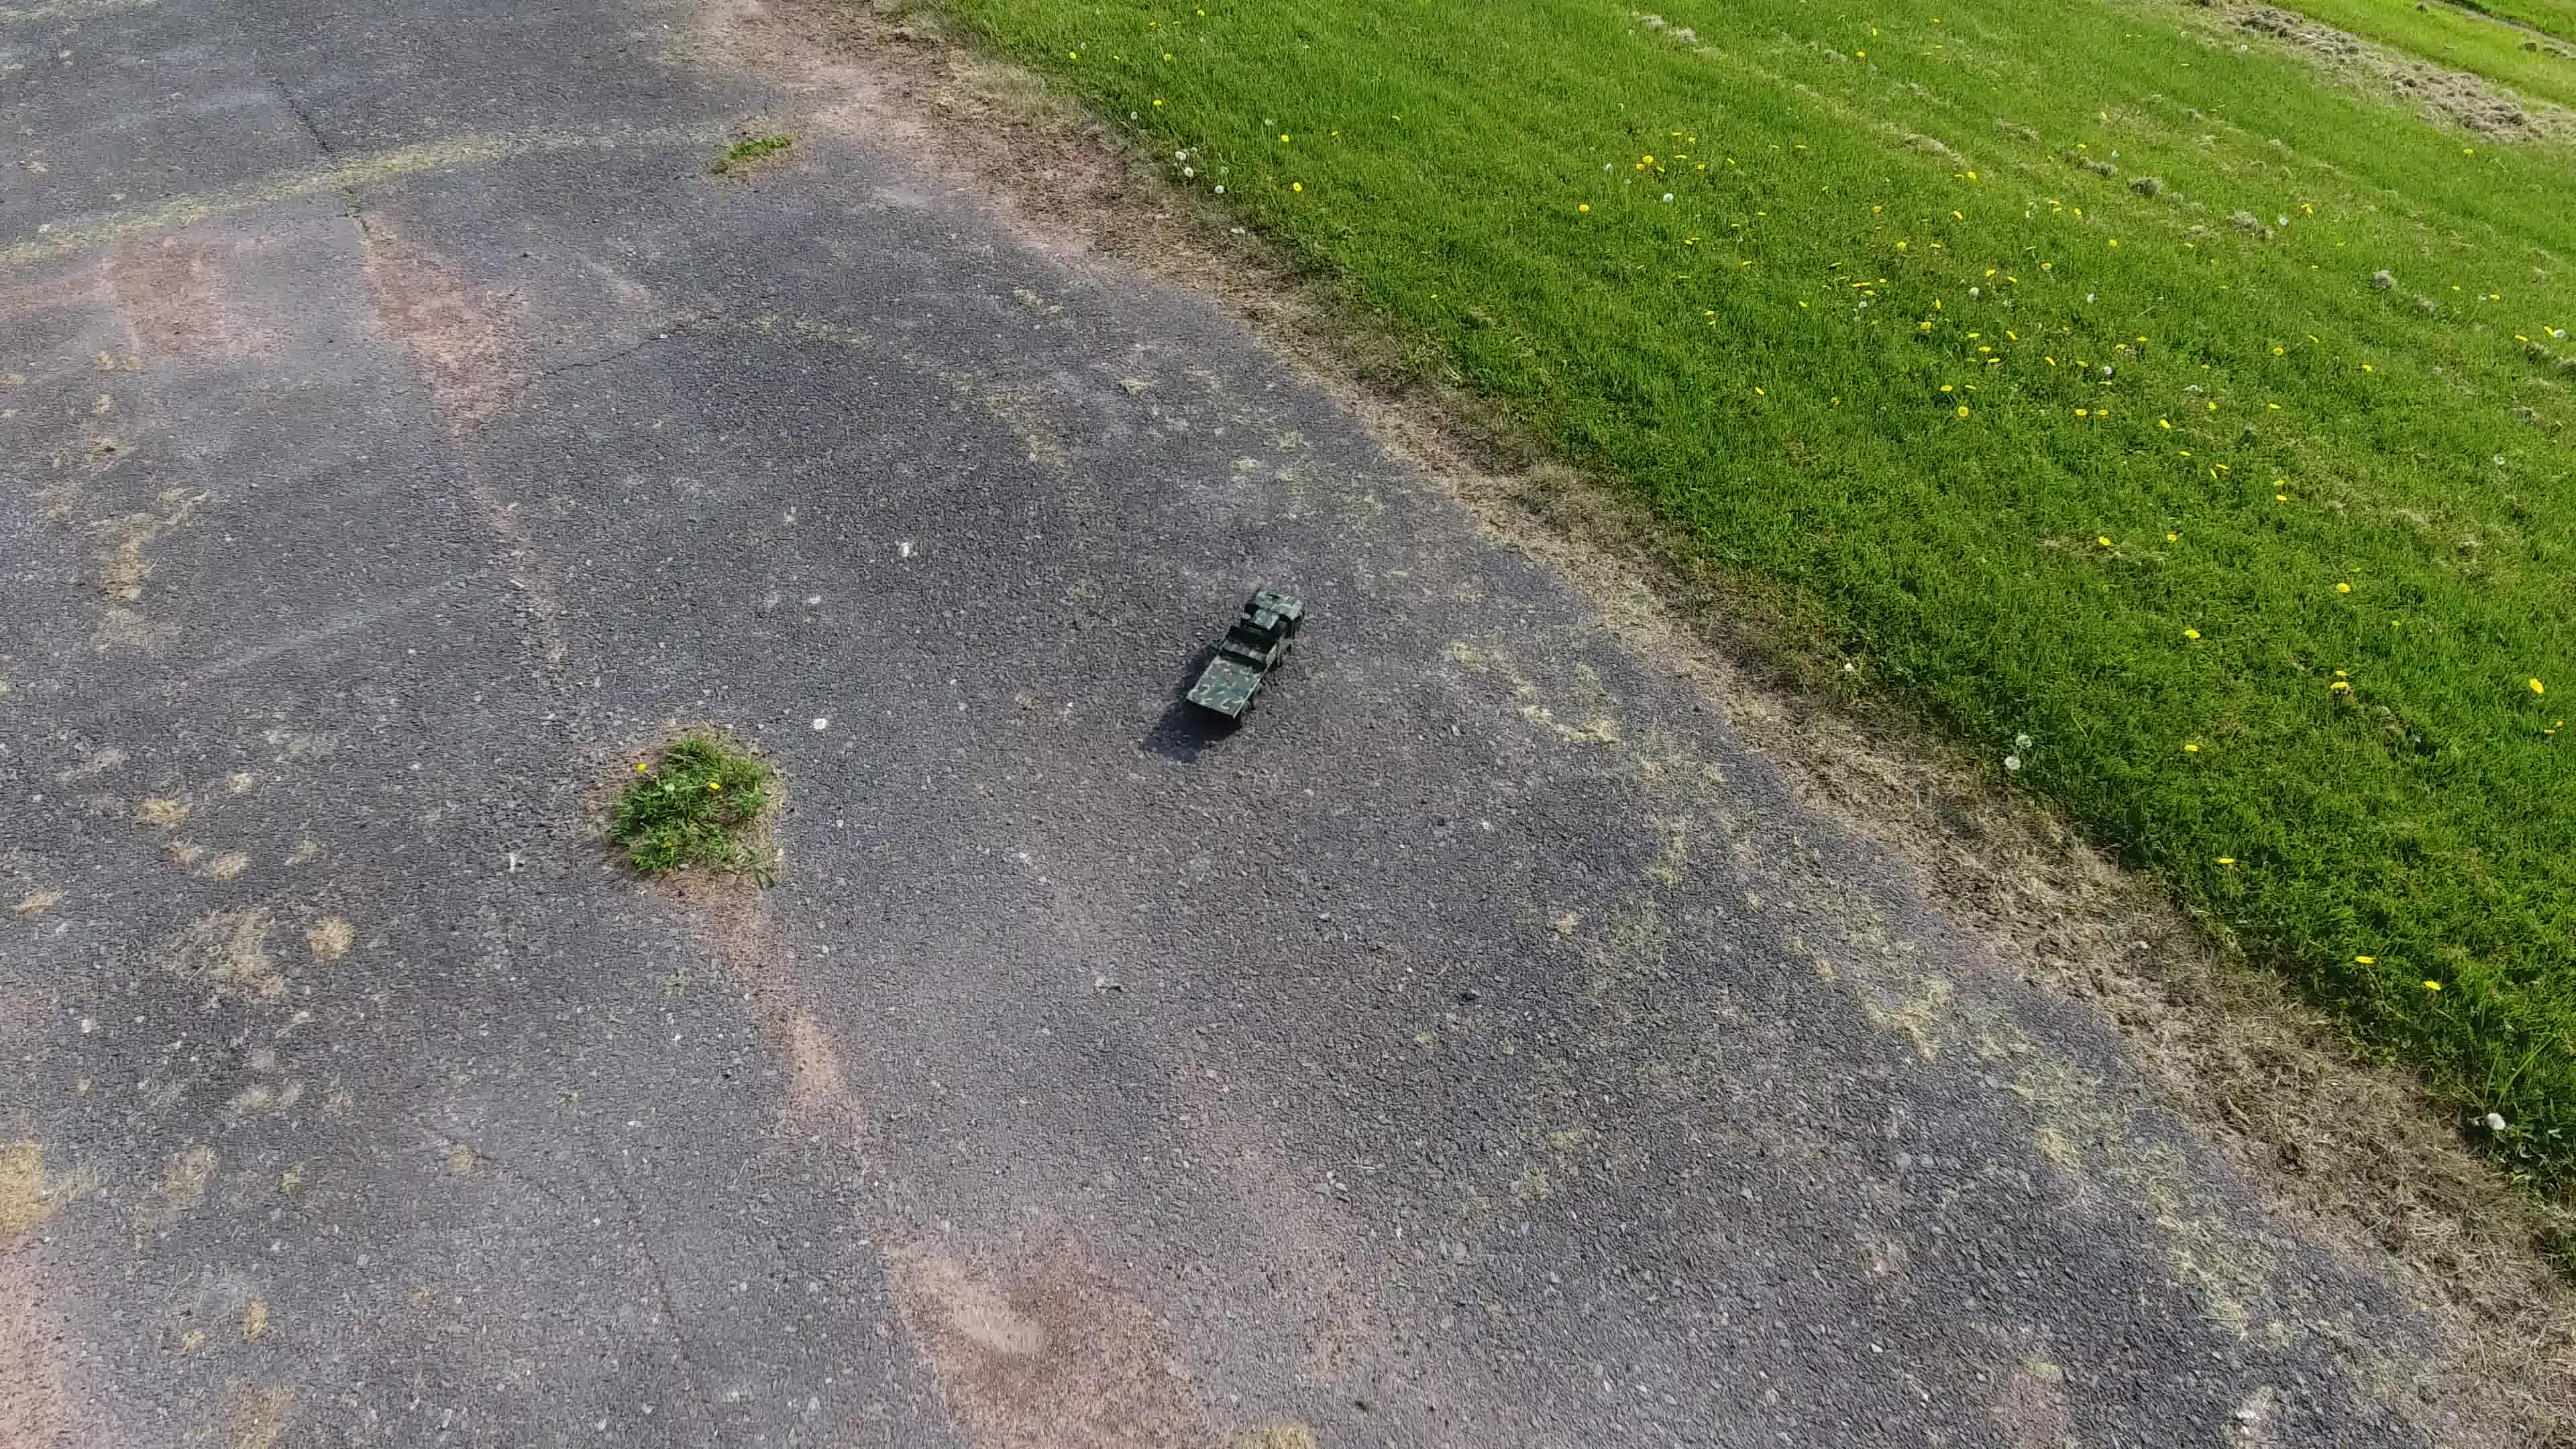transporter9_camo: (1177, 582, 1307, 727)
